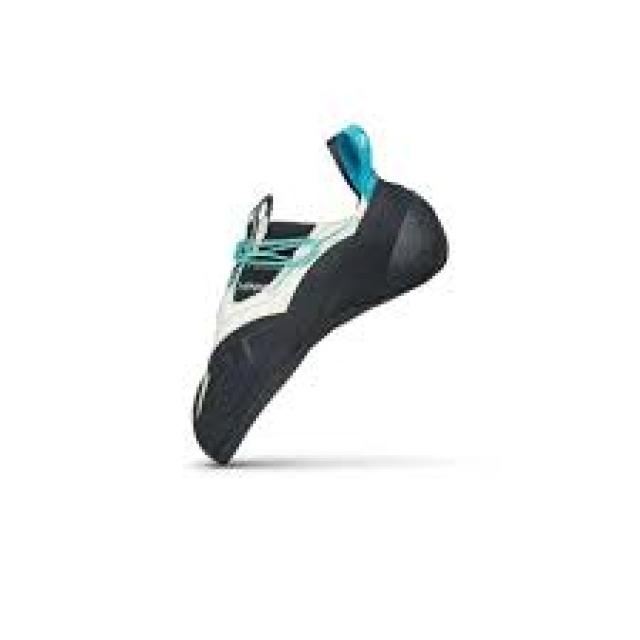climbing-shoes: (187, 123, 449, 464)
